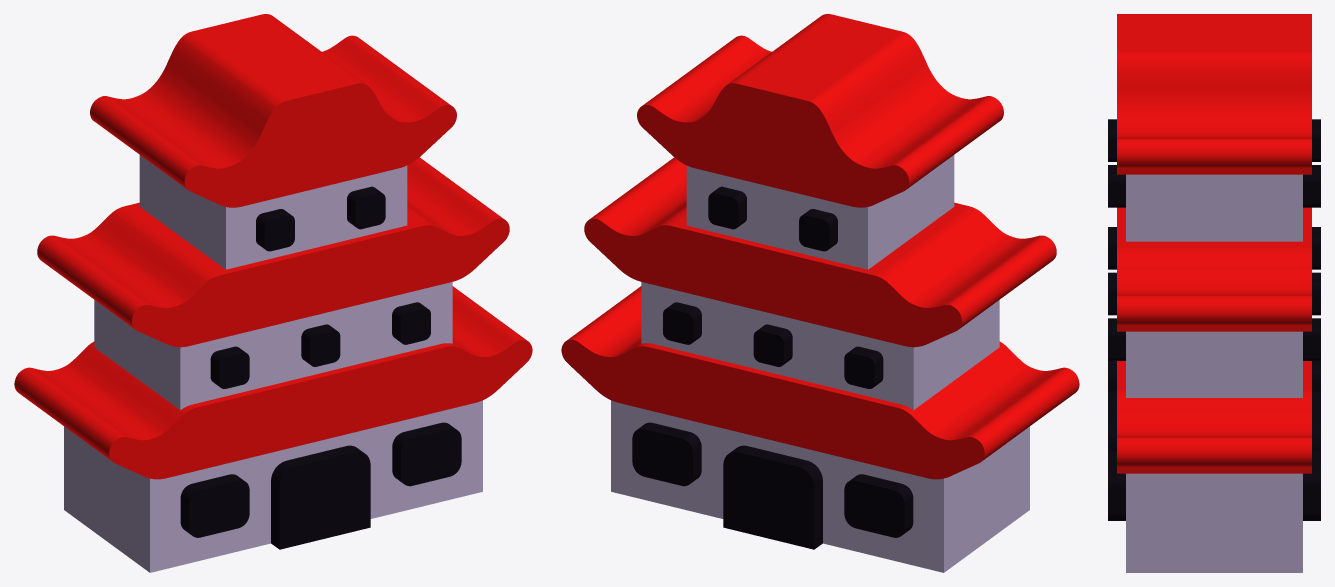
3 renders of one model, left to right at view 1: azimuth 30°, elevation 25°; view 2: azimuth 150°, elevation 25°; view 3: azimuth 270°, elevation 25°, orthographic. The views are drawn at different scales.
Parts seen in each view (by area): view 1: U+1F3EF_layer01_obj00, U+1F3EF_layer00_obj00, U+1F3EF_layer02_obj00; view 2: U+1F3EF_layer01_obj00, U+1F3EF_layer00_obj00, U+1F3EF_layer02_obj00; view 3: U+1F3EF_layer01_obj00, U+1F3EF_layer00_obj00, U+1F3EF_layer02_obj00.
Part boxes in pixels (bbox=[...]): U+1F3EF_layer01_obj00: bbox=[14, 14, 532, 479]; U+1F3EF_layer00_obj00: bbox=[64, 155, 482, 572]; U+1F3EF_layer02_obj00: bbox=[180, 186, 461, 549]; U+1F3EF_layer01_obj00: bbox=[561, 14, 1079, 479]; U+1F3EF_layer00_obj00: bbox=[611, 155, 1029, 572]; U+1F3EF_layer02_obj00: bbox=[632, 186, 913, 549]; U+1F3EF_layer01_obj00: bbox=[1117, 14, 1311, 473]; U+1F3EF_layer00_obj00: bbox=[1126, 174, 1302, 572]; U+1F3EF_layer02_obj00: bbox=[1108, 119, 1320, 520].
Bounding box in the file's own units: 0.5678 × 0.5677 × 0.24.
